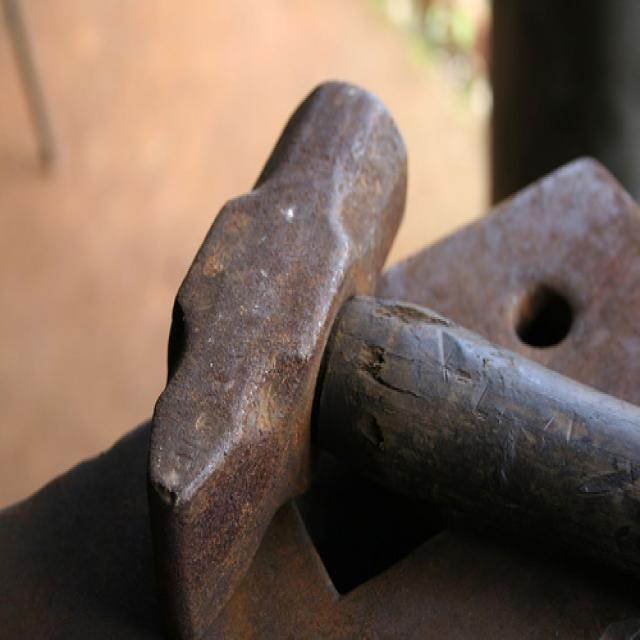hammer: (133, 56, 640, 640)
